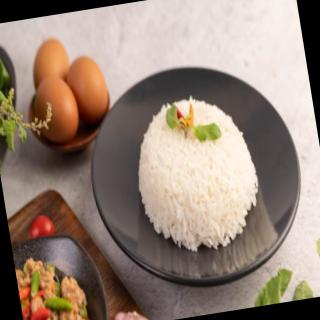Nasi: (125, 86, 270, 263)
